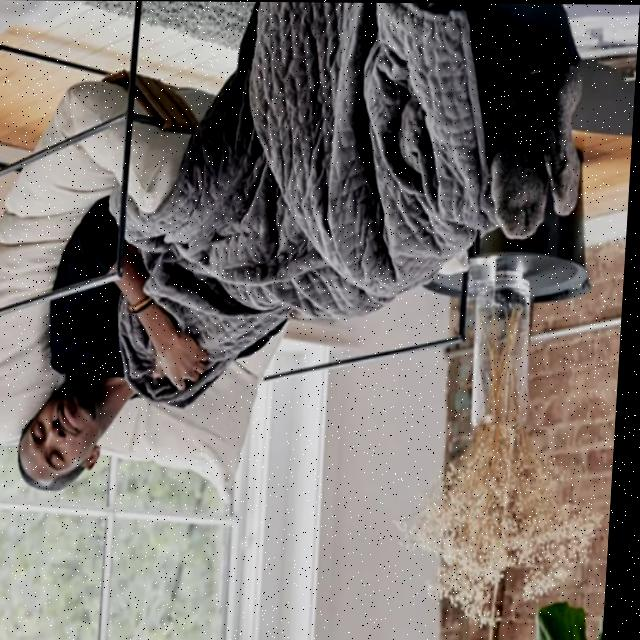sleeping-person: (1, 0, 597, 521)
